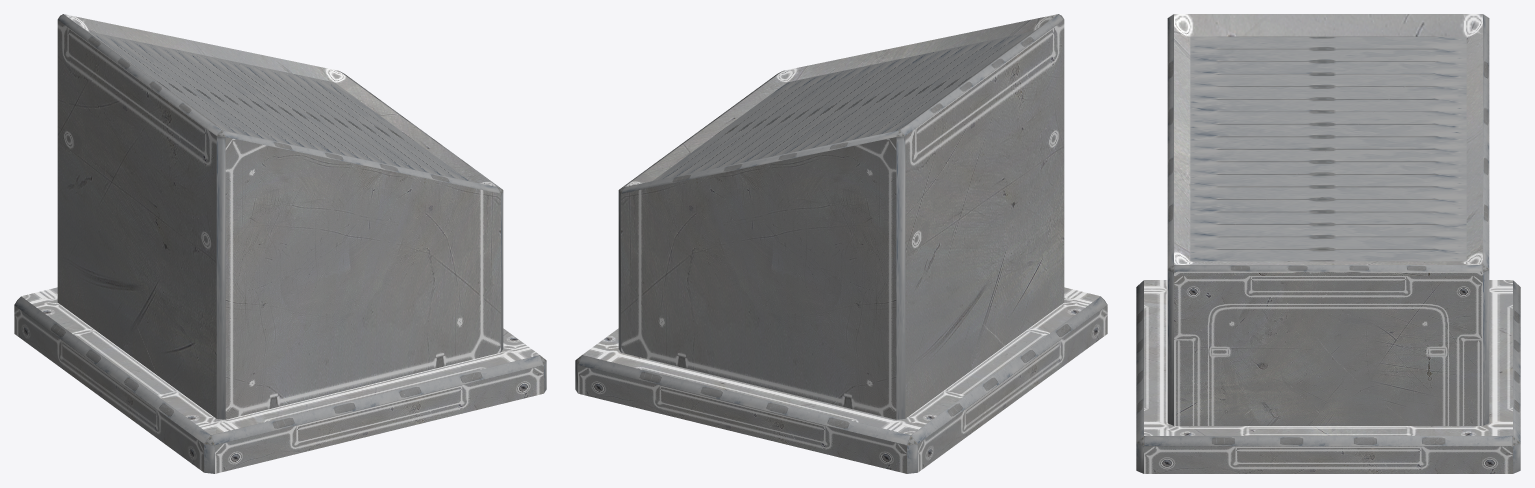
Rendered from SM_Vent2.fbx.
3 renders of one model, left to right at view 1: azimuth 30°, elevation 25°; view 2: azimuth 150°, elevation 25°; view 3: azimuth 270°, elevation 25°, orthographic. The views are drawn at different scales.
Parts seen in each view (by area): view 1: SM_Vent2_LOD0; view 2: SM_Vent2_LOD0; view 3: SM_Vent2_LOD0.
Part boxes in pixels (x1,y1,x2,y2): SM_Vent2_LOD0: [14, 14, 546, 473]; SM_Vent2_LOD0: [575, 14, 1107, 473]; SM_Vent2_LOD0: [1136, 14, 1520, 473].
Bounding box in the file's own units: 100 × 100 × 90.02.
Materials: 2 (2 with a texture image).
